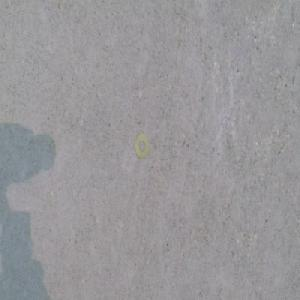Washer: (134, 133, 149, 160)
